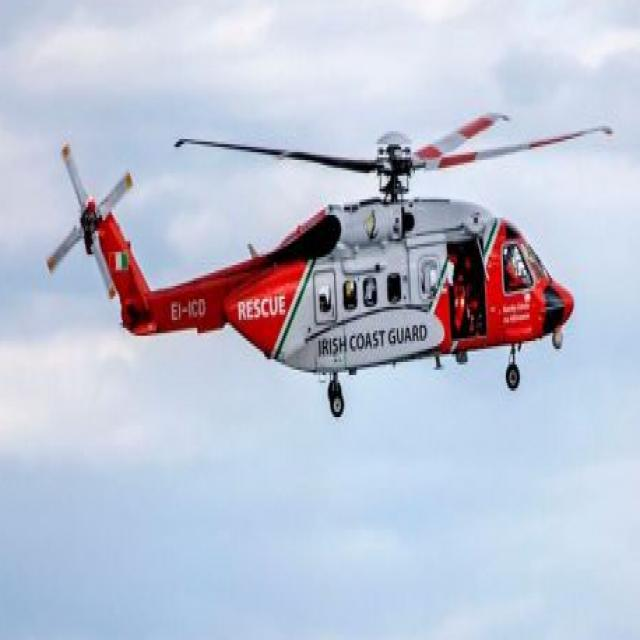helicopter: (29, 93, 621, 431)
